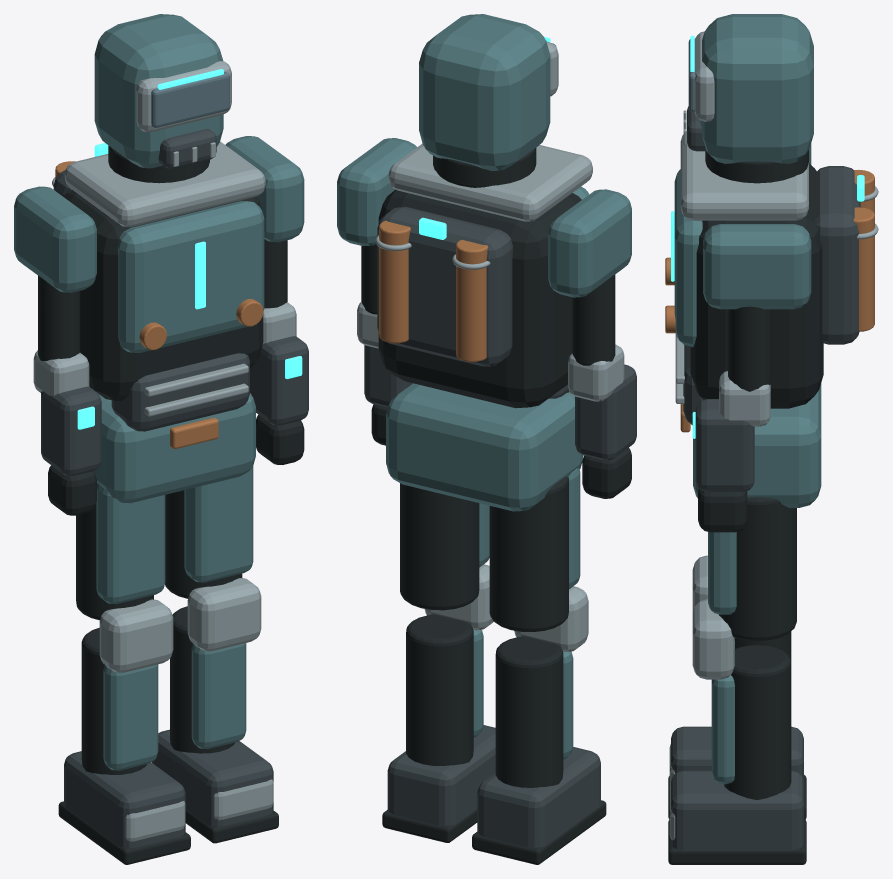
Rendered from ForgeSuit.fbx.
3 views of the same model, side by side, from view 1: azimuth 30°, elevation 25°; view 2: azimuth 150°, elevation 25°; view 3: azimuth 270°, elevation 25° (orthographic).
Parts seen in each view (by area): view 1: FrameMesh, RightLegMesh, LeftLegMesh, RightArmMesh, LeftArmMesh; view 2: FrameMesh, RightLegMesh, LeftLegMesh, RightArmMesh, LeftArmMesh; view 3: FrameMesh, LeftLegMesh, LeftArmMesh, RightLegMesh.
Part boxes in pixels (bbox=[...]): FrameMesh: bbox=[52, 14, 265, 503]; RightLegMesh: bbox=[58, 484, 190, 864]; LeftLegMesh: bbox=[152, 466, 278, 843]; RightArmMesh: bbox=[14, 186, 101, 515]; LeftArmMesh: bbox=[225, 136, 308, 464]; FrameMesh: bbox=[375, 14, 592, 511]; RightLegMesh: bbox=[472, 468, 606, 864]; LeftLegMesh: bbox=[382, 483, 495, 842]; RightArmMesh: bbox=[548, 189, 636, 498]; LeftArmMesh: bbox=[337, 138, 416, 445]; FrameMesh: bbox=[665, 14, 878, 507]; LeftLegMesh: bbox=[668, 497, 806, 864]; LeftArmMesh: bbox=[692, 224, 811, 532]; RightLegMesh: bbox=[668, 555, 806, 819].
Bounding box in the file's own units: 0.594 × 1.79 × 0.432.
